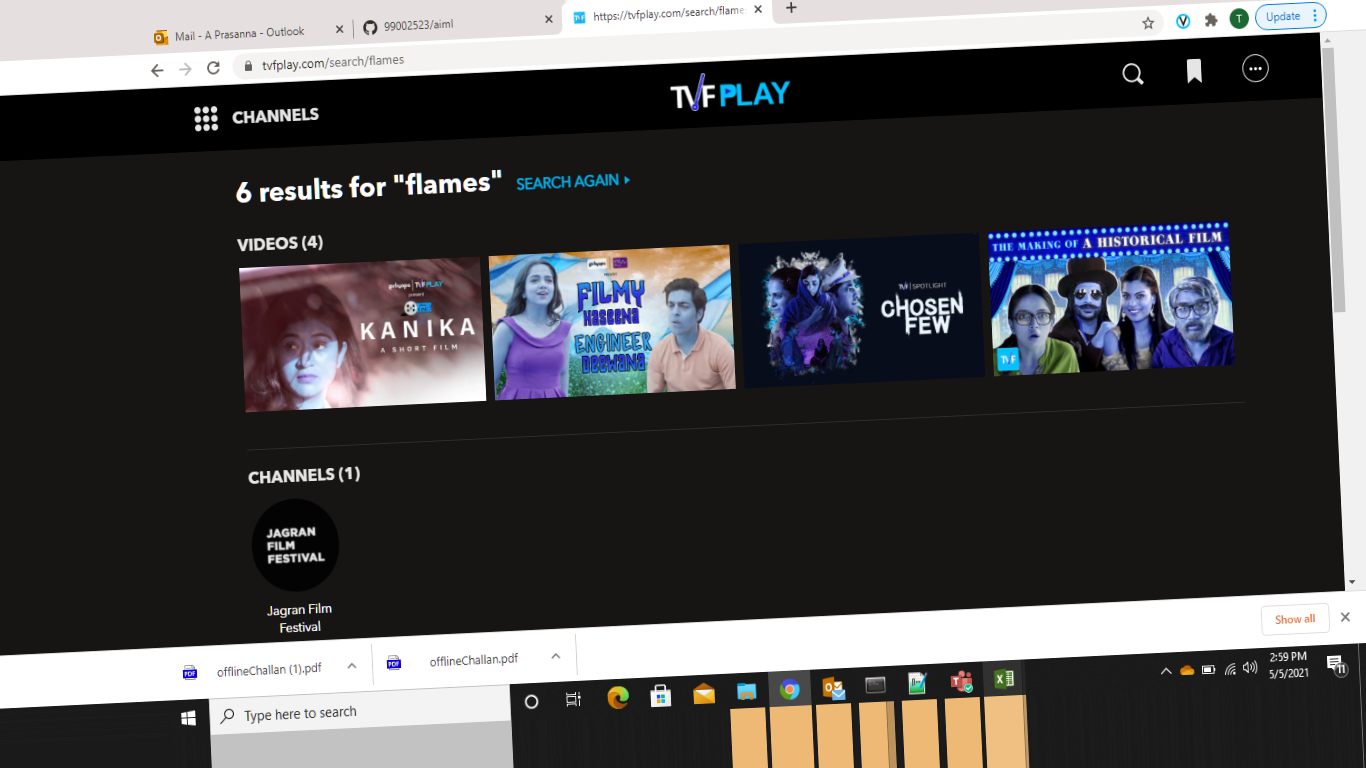profileicon: (1234, 45, 1271, 82)
resultsfound: (231, 156, 646, 208)
searchicon: (1114, 55, 1151, 94)
